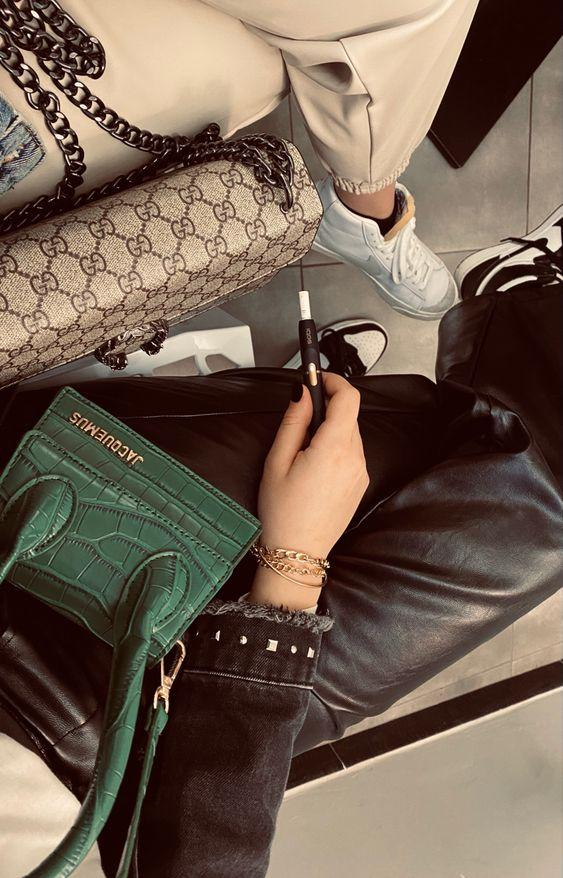iqos: (298, 290, 324, 434)
